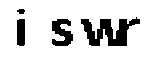i: (13, 5, 30, 50)
r: (120, 14, 146, 47)
s: (49, 15, 74, 49)
w: (78, 17, 123, 48)
